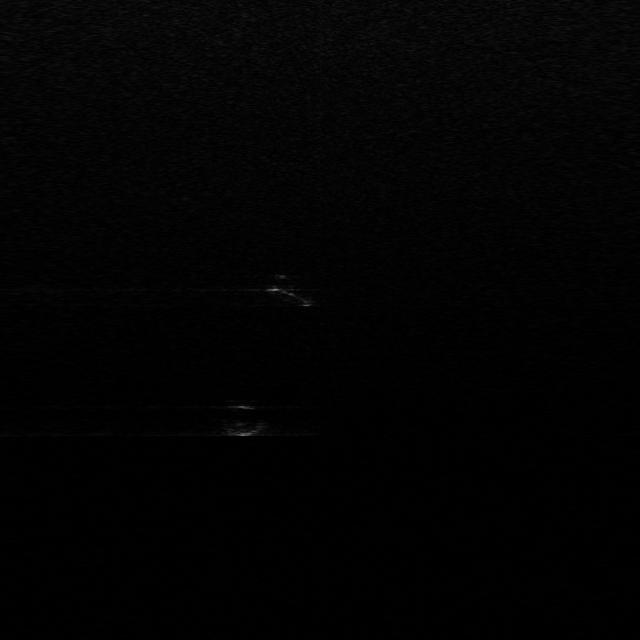ball: (214, 398, 272, 436)
tyre: (266, 272, 316, 308)
